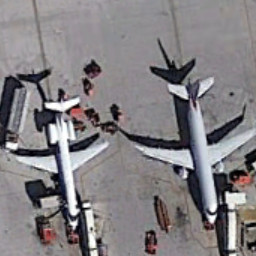Airplane: (125, 73, 256, 233), (5, 92, 117, 240)
